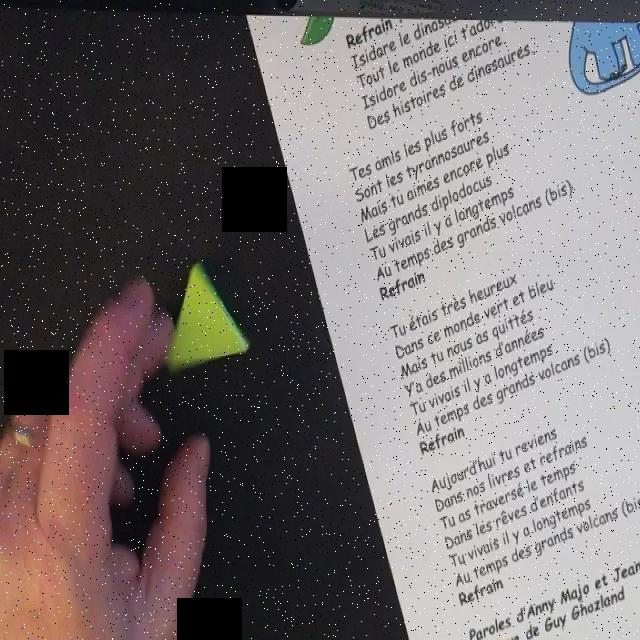triangle: (163, 261, 251, 370)
